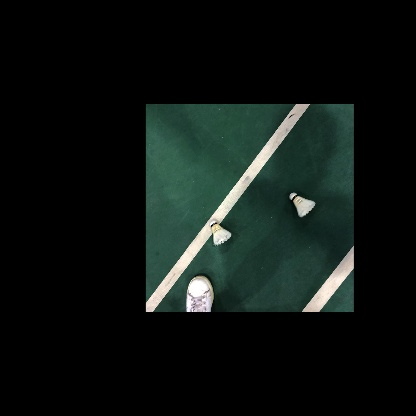ball_single: (289, 192, 316, 218), (210, 220, 232, 246)
